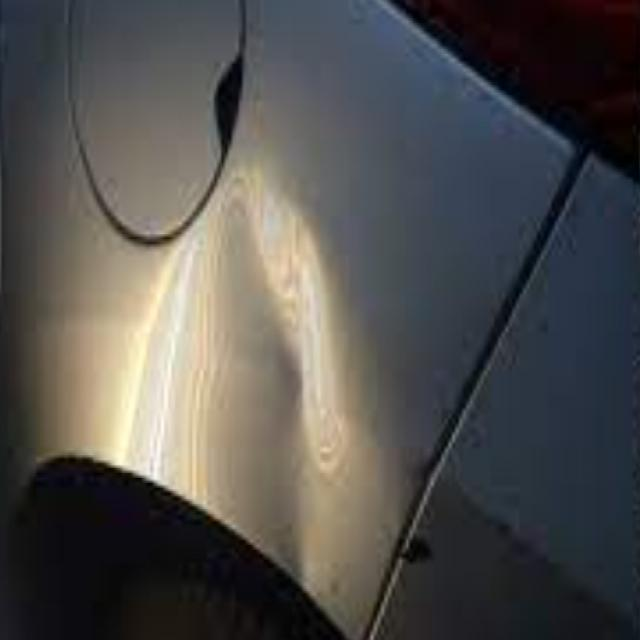dents: (165, 219, 364, 526)
